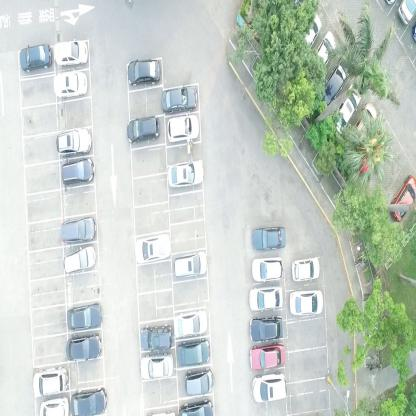car: (347, 102, 378, 156), (320, 57, 351, 105), (308, 30, 337, 81), (390, 171, 416, 222), (295, 9, 321, 60), (334, 89, 361, 134), (134, 231, 170, 264), (56, 124, 92, 157), (66, 299, 102, 331), (61, 214, 96, 246), (176, 336, 212, 367), (70, 386, 107, 416), (63, 241, 96, 274), (174, 306, 208, 338), (33, 364, 67, 396), (53, 69, 89, 99), (127, 113, 159, 146), (66, 332, 102, 361), (251, 373, 287, 401), (174, 249, 207, 279), (140, 351, 174, 380), (167, 161, 203, 188), (167, 111, 198, 142), (20, 42, 51, 73), (61, 156, 94, 185), (162, 84, 196, 112), (53, 38, 87, 66), (140, 323, 172, 352), (128, 57, 160, 86), (288, 291, 324, 315), (250, 256, 284, 281), (248, 286, 283, 310), (248, 346, 286, 368), (248, 318, 284, 341), (186, 366, 213, 396), (252, 228, 287, 250), (290, 258, 320, 280), (178, 398, 214, 416), (39, 394, 68, 416), (396, 0, 416, 26)
